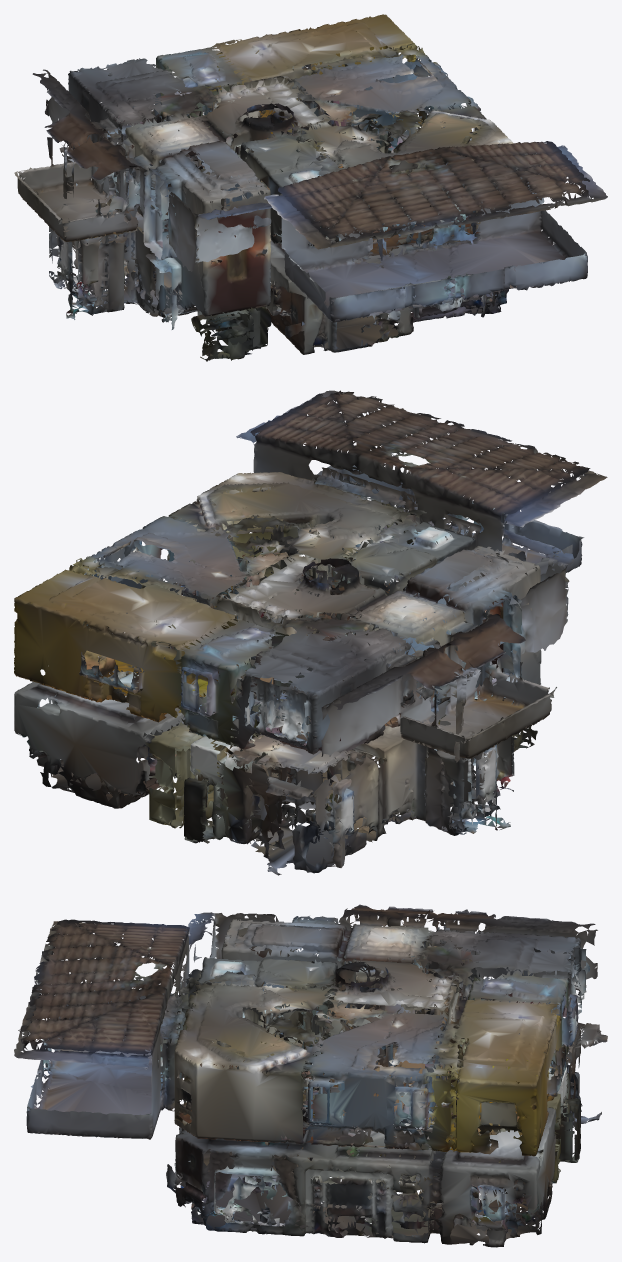
Rendered from interior.glb.
3 views of the same model, one above another, from view 1: azimuth 30°, elevation 25°; view 2: azimuth 150°, elevation 25°; view 3: azimuth 270°, elevation 25° (orthographic). The views are drawn at different scales.
Visible parts, largest first — view 1: interior_source_to_Y_up; view 2: interior_source_to_Y_up; view 3: interior_source_to_Y_up.
Boxes of the visible parts, left/top/right/bottom form: interior_source_to_Y_up: left=14, top=14, right=607, bottom=361; interior_source_to_Y_up: left=14, top=390, right=607, bottom=875; interior_source_to_Y_up: left=14, top=904, right=607, bottom=1247.
Bounding box in the file's own units: 16.33 × 7.29 × 19.78.
